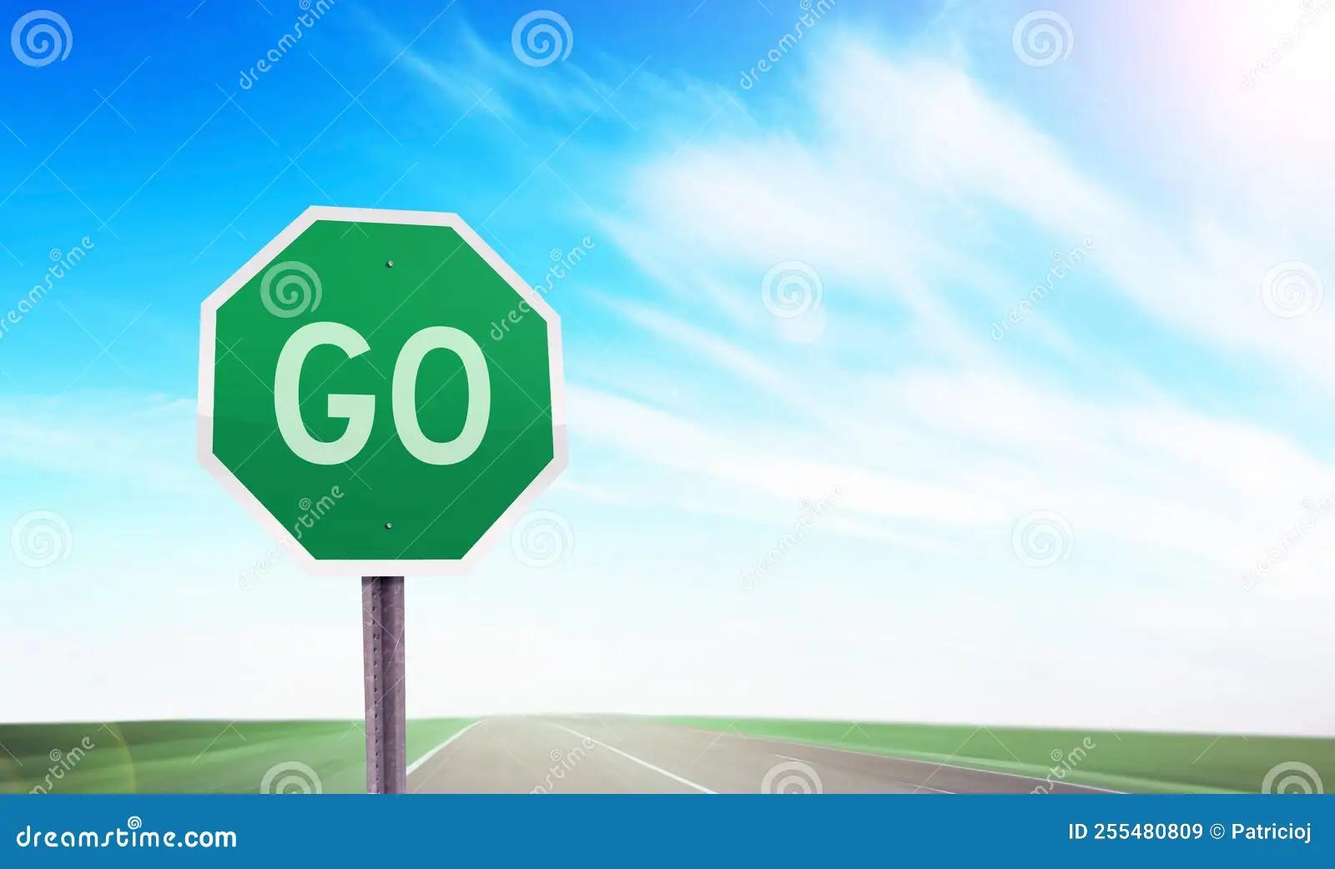Go: (214, 218, 545, 562)
